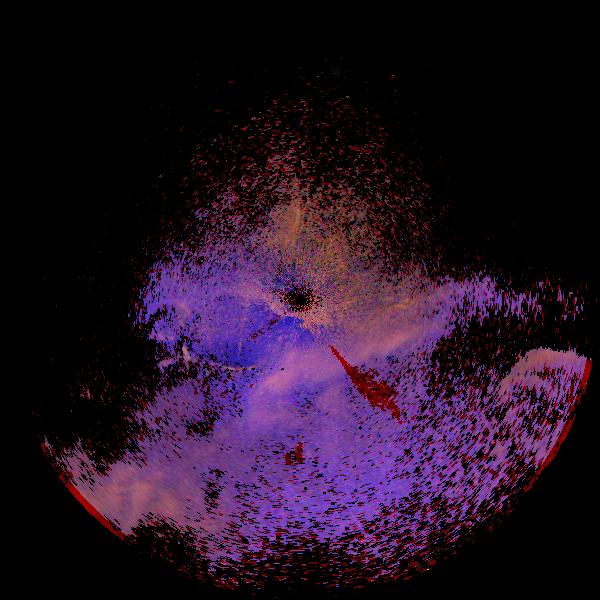roost: (121, 326, 205, 410)
